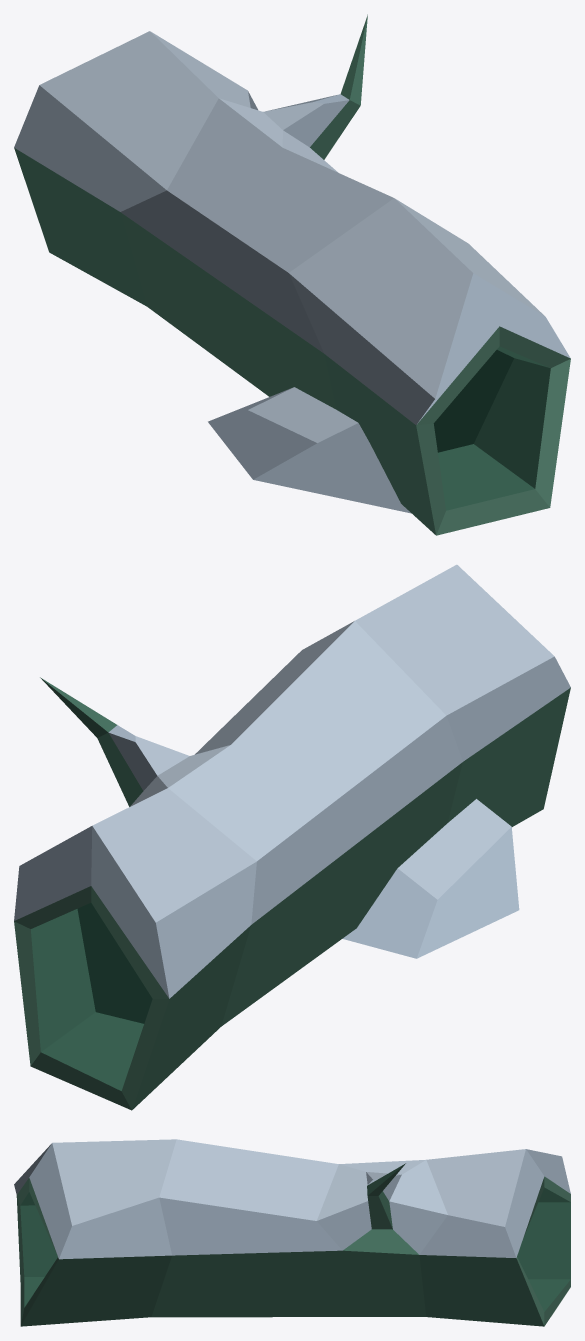
File: FallenLog_Alt2.fbx
3 views of the same model, one above another, from view 1: azimuth 30°, elevation 25°; view 2: azimuth 150°, elevation 25°; view 3: azimuth 270°, elevation 25° (orthographic). The views are drawn at different scales.
Visible parts, largest first — view 1: FallenLog_Alt2; view 2: FallenLog_Alt2; view 3: FallenLog_Alt2.
Part boxes in pixels (x1=…): FallenLog_Alt2: x1=14, y1=14, x2=570, y2=535; FallenLog_Alt2: x1=14, y1=564, x2=570, y2=1110; FallenLog_Alt2: x1=14, y1=1139, x2=570, y2=1326.
Bounding box in the file's own units: 0.3263 × 0.3055 × 0.7821.
